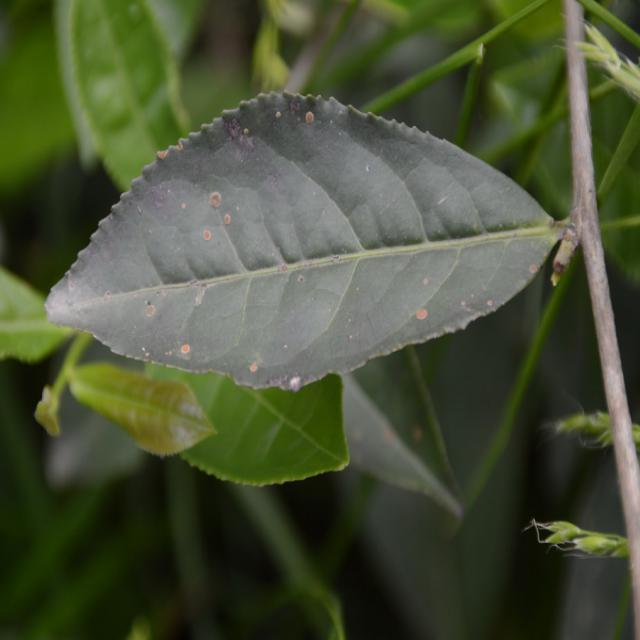Tea algae leaf spot: (94, 119, 533, 383)
